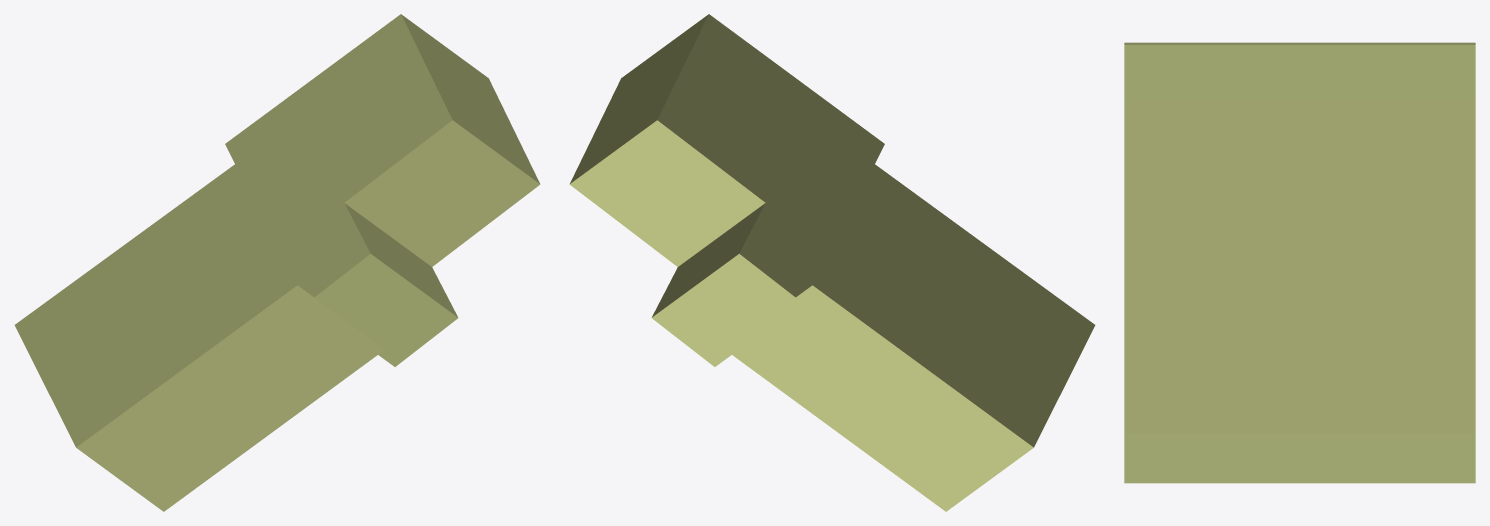
3 renders of one model, left to right at view 1: azimuth 30°, elevation 25°; view 2: azimuth 150°, elevation 25°; view 3: azimuth 270°, elevation 25°, orthographic. The views are drawn at different scales.
Visible parts, largest first — view 1: 0_1_0_2_0_2_1_0_1; view 2: 0_1_0_2_0_2_1_0_1; view 3: 0_1_0_2_0_2_1_0_1.
Part boxes in pixels (<box>): 0_1_0_2_0_2_1_0_1: <box>14,14,540,511</box>; 0_1_0_2_0_2_1_0_1: <box>569,14,1095,511</box>; 0_1_0_2_0_2_1_0_1: <box>1124,42,1475,483</box>.
Size of the model in its own units: 25.92 by 20.04 by 9.
